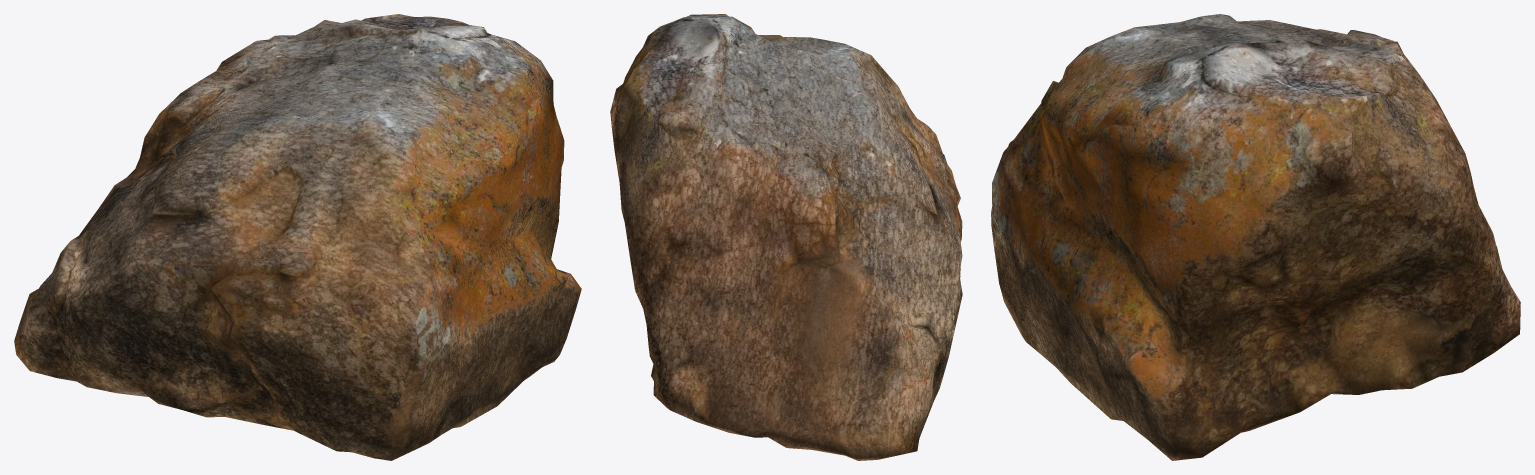
Rendered from nat-rock-c.glb.
The picture shows the model from 3 angles, left to right: view 1: azimuth 30°, elevation 25°; view 2: azimuth 150°, elevation 25°; view 3: azimuth 270°, elevation 25°; orthographic projection. The views are drawn at different scales.
Visible parts, largest first — view 1: boulder_04; view 2: boulder_04; view 3: boulder_04.
Boxes of the visible parts, bbox=[...] form: boulder_04: bbox=[14, 14, 581, 460]; boulder_04: bbox=[610, 14, 962, 460]; boulder_04: bbox=[991, 14, 1520, 460].
Size of the model in its own units: 2.51 by 1.89 by 2.47.
Materials: 1 (1 with a texture image).
